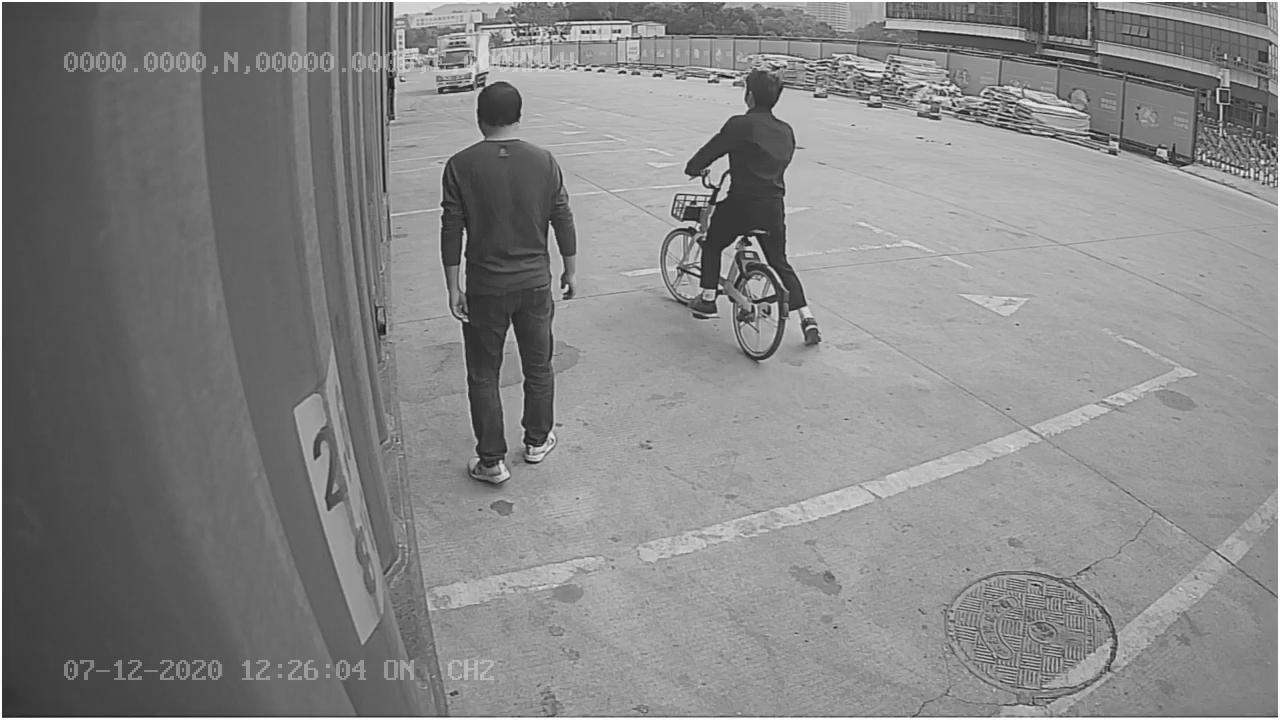person: (433, 80, 581, 491)
